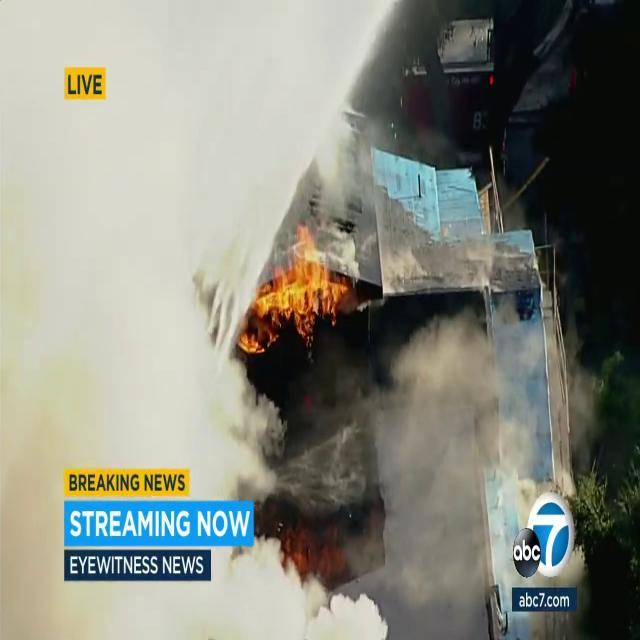Fire: (246, 222, 348, 350)
Smoke: (0, 0, 267, 631), (363, 306, 521, 630)
